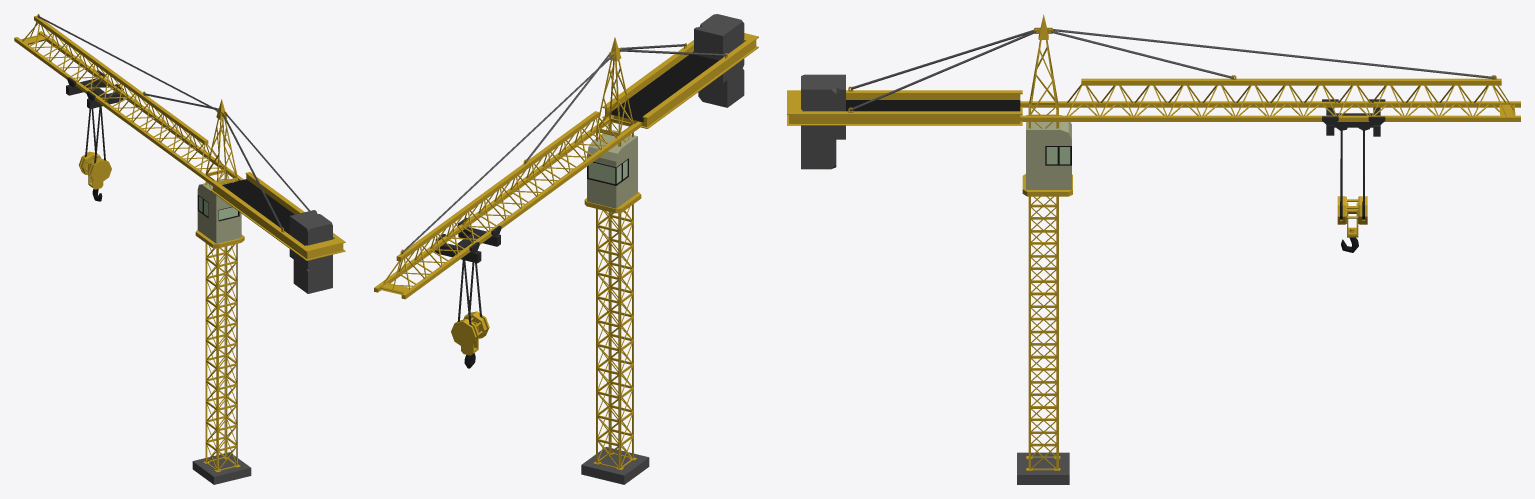
File: Crane.obj
3 views of the same model, side by side, from view 1: azimuth 30°, elevation 25°; view 2: azimuth 150°, elevation 25°; view 3: azimuth 270°, elevation 25° (orthographic). The views are drawn at different scales.
Visible parts, largest first — view 1: Crane_Cylinder, Concrete_Cube.007; view 2: Crane_Cylinder, Concrete_Cube.007; view 3: Crane_Cylinder, Concrete_Cube.007.
Part boxes in pixels (x1,y1,x2,y2): Crane_Cylinder: (14,14,345,472); Concrete_Cube.007: (192,452,251,484); Crane_Cylinder: (374,14,758,470); Concrete_Cube.007: (581,447,649,484); Crane_Cylinder: (787,14,1520,470); Concrete_Cube.007: (1017,452,1069,484).
Bounding box in the file's own units: 1.6 × 14.61 × 21.13.
